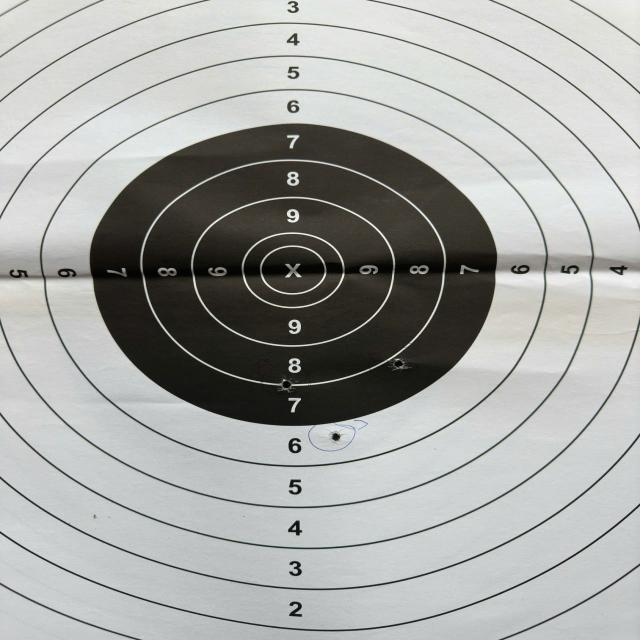bullet: (281, 380, 291, 392), (333, 432, 340, 443), (397, 360, 404, 368)
